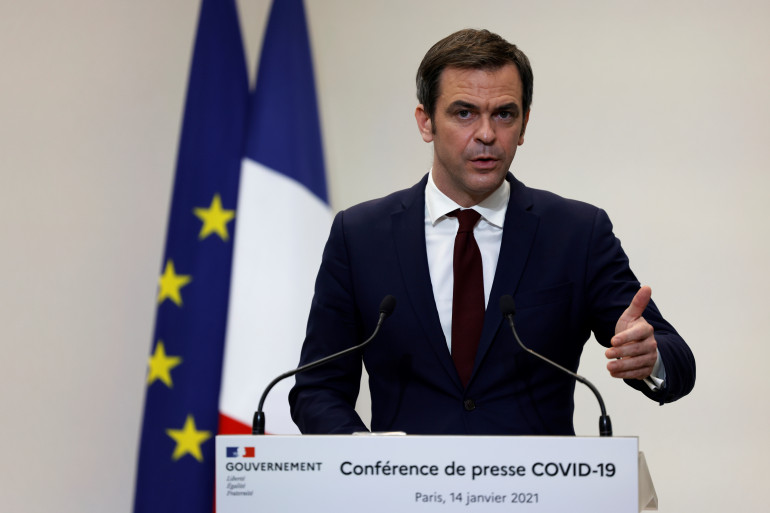without_mask: (445, 82, 512, 187)
